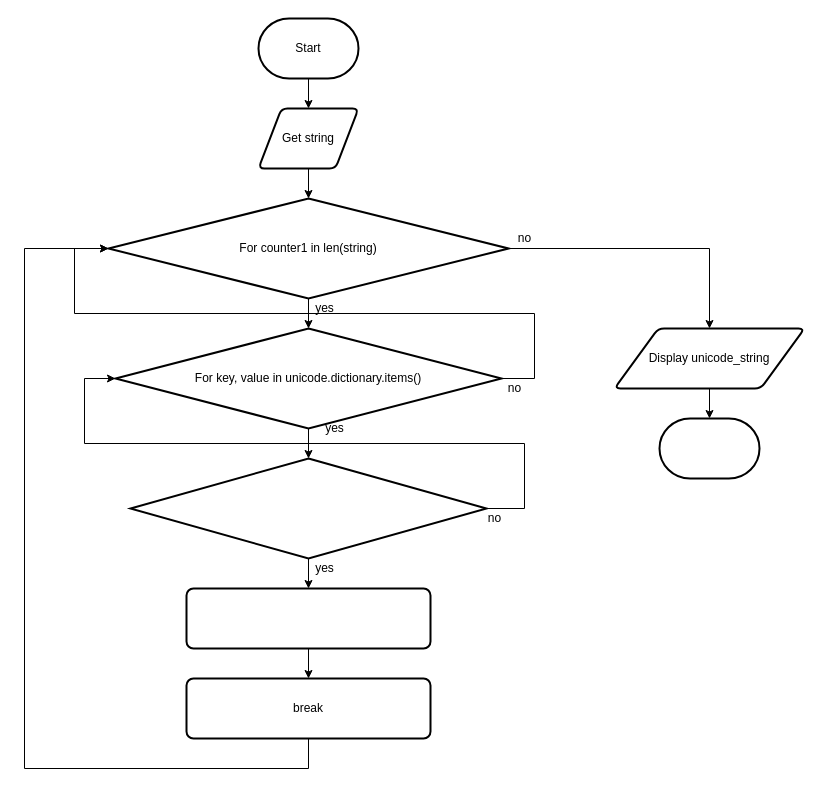
The diagram is 823 pixels wide and 794 high, and some of its shapes have lost their labels. Each missing label, with the centre of its shape:
"If string[counter1] == key" goes at [308,508].
"Stop" goes at [709,448].
"unicode_string.append(value)" goes at [308,618].
